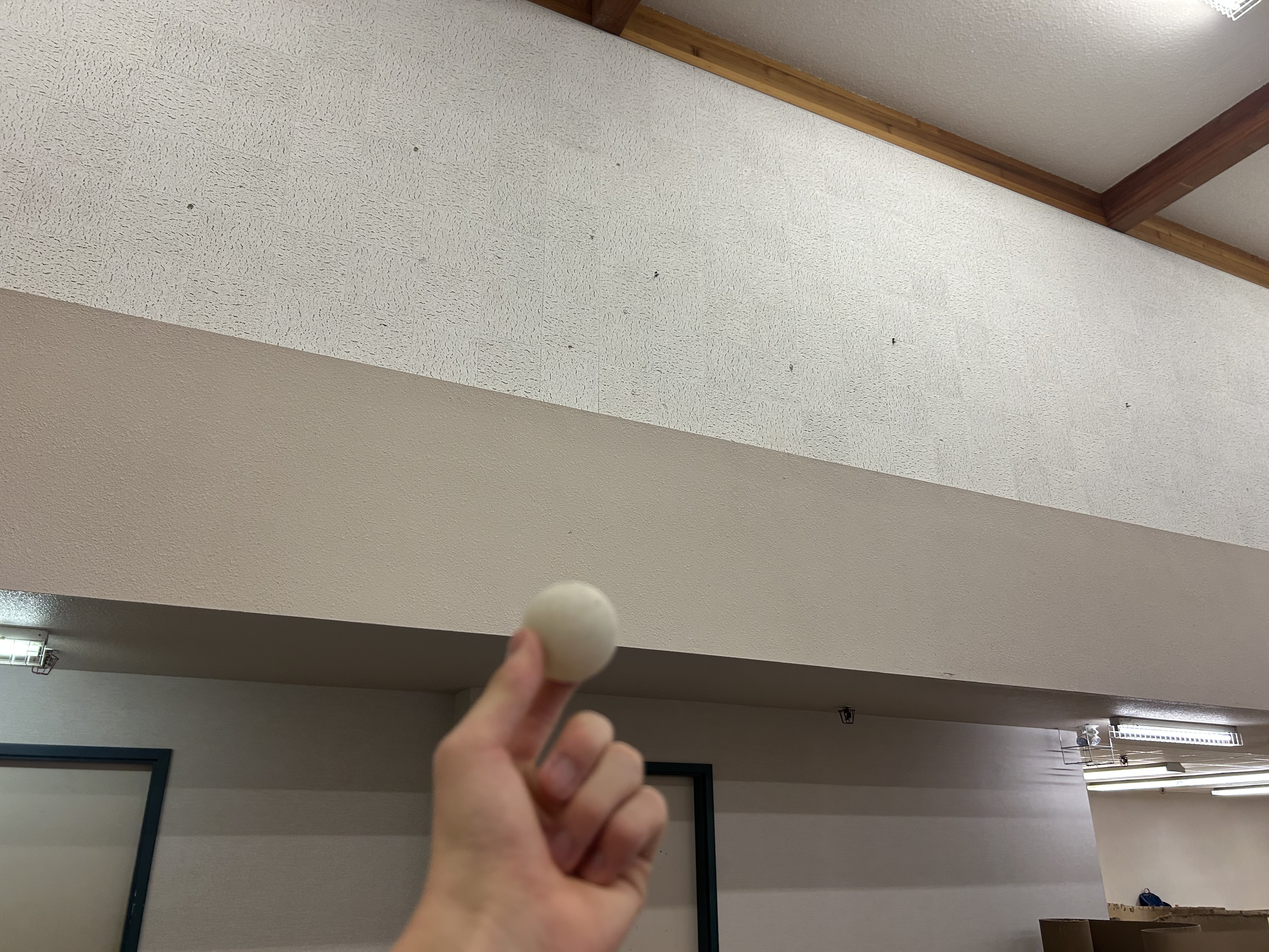Ball: (525, 573, 630, 681)
